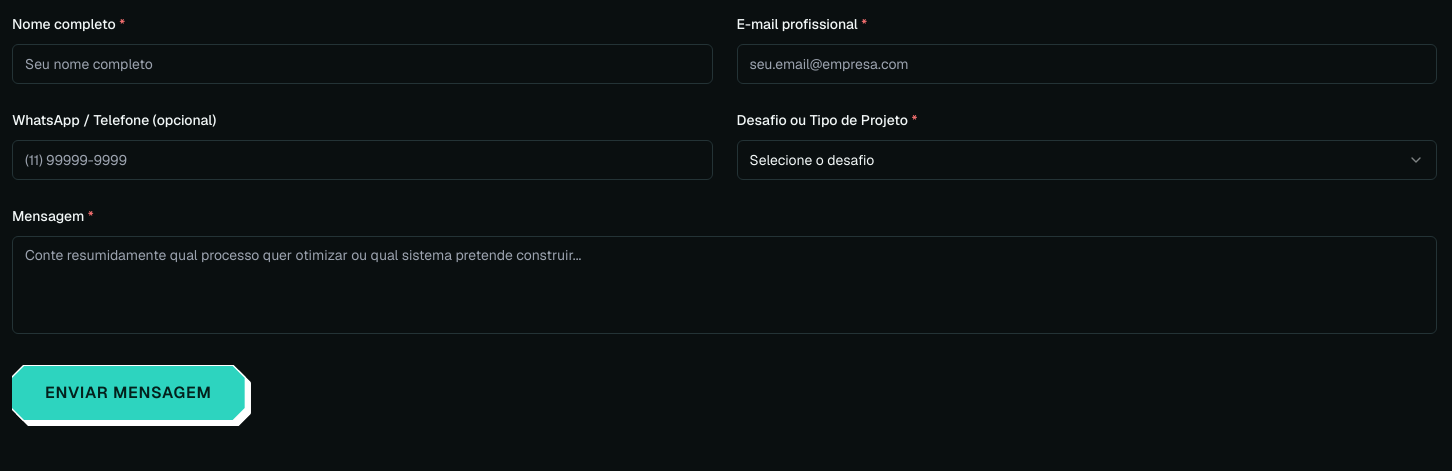
it: ContactForm Component › rejeita caracteres alfabéticos aleatórios no campo de WhatsApp/Telefone
Type "wewqewqeq" into the field labelled "WhatsApp / Telefone (opcional)" at (362, 160), box [12,140,712,180]
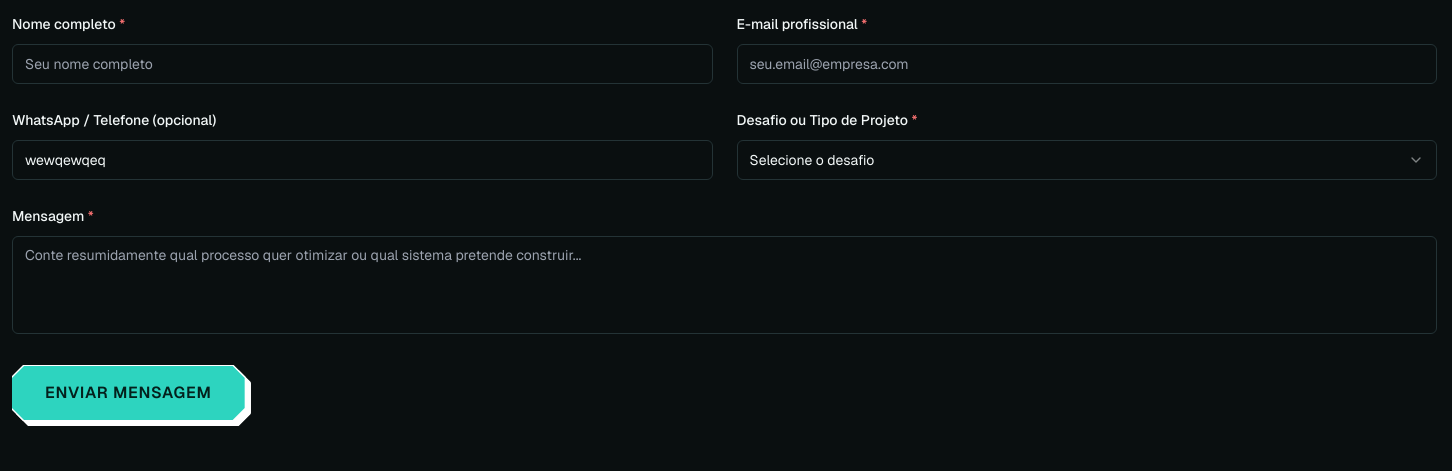
Leave the field labelled "WhatsApp / Telefone (opcional)", box [12,140,712,180]
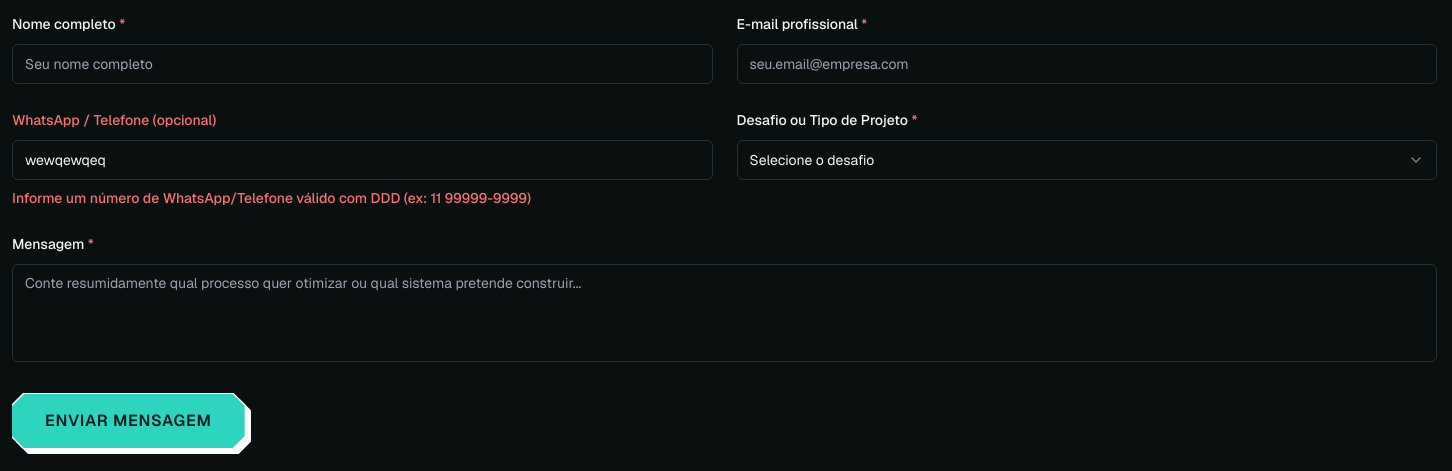
Check: the text "Informe um número de WhatsApp/Telefone válido com DDD" is shown, box [12,189,531,207]
